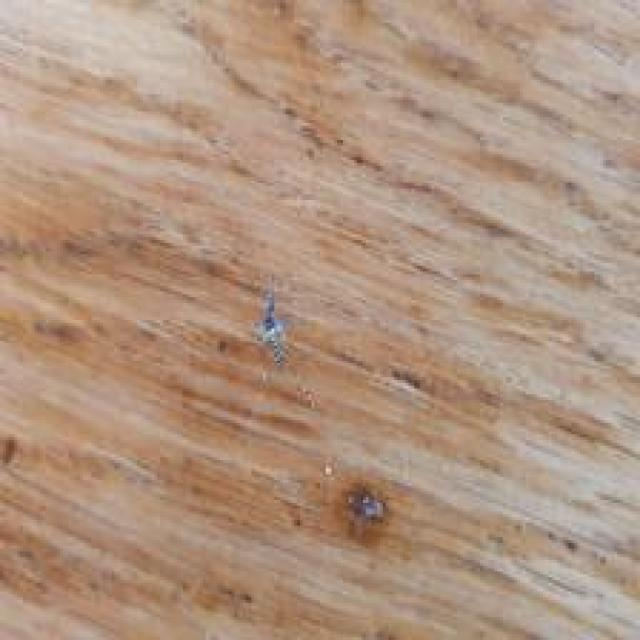Aedes albopictus: (253, 274, 290, 369)
